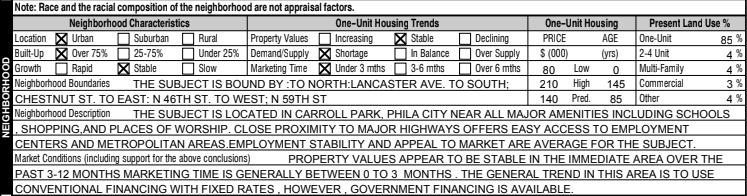checked: (53, 31, 70, 47), (116, 61, 132, 77), (318, 62, 333, 77), (393, 32, 408, 47), (55, 46, 69, 62), (318, 46, 332, 62)
unchecked: (181, 60, 196, 77), (458, 60, 473, 77), (54, 61, 69, 77), (393, 61, 408, 77), (393, 46, 408, 62), (180, 32, 196, 47), (317, 31, 333, 46), (116, 32, 131, 46), (458, 47, 472, 62), (458, 32, 473, 46), (117, 45, 130, 61), (182, 46, 195, 62)
